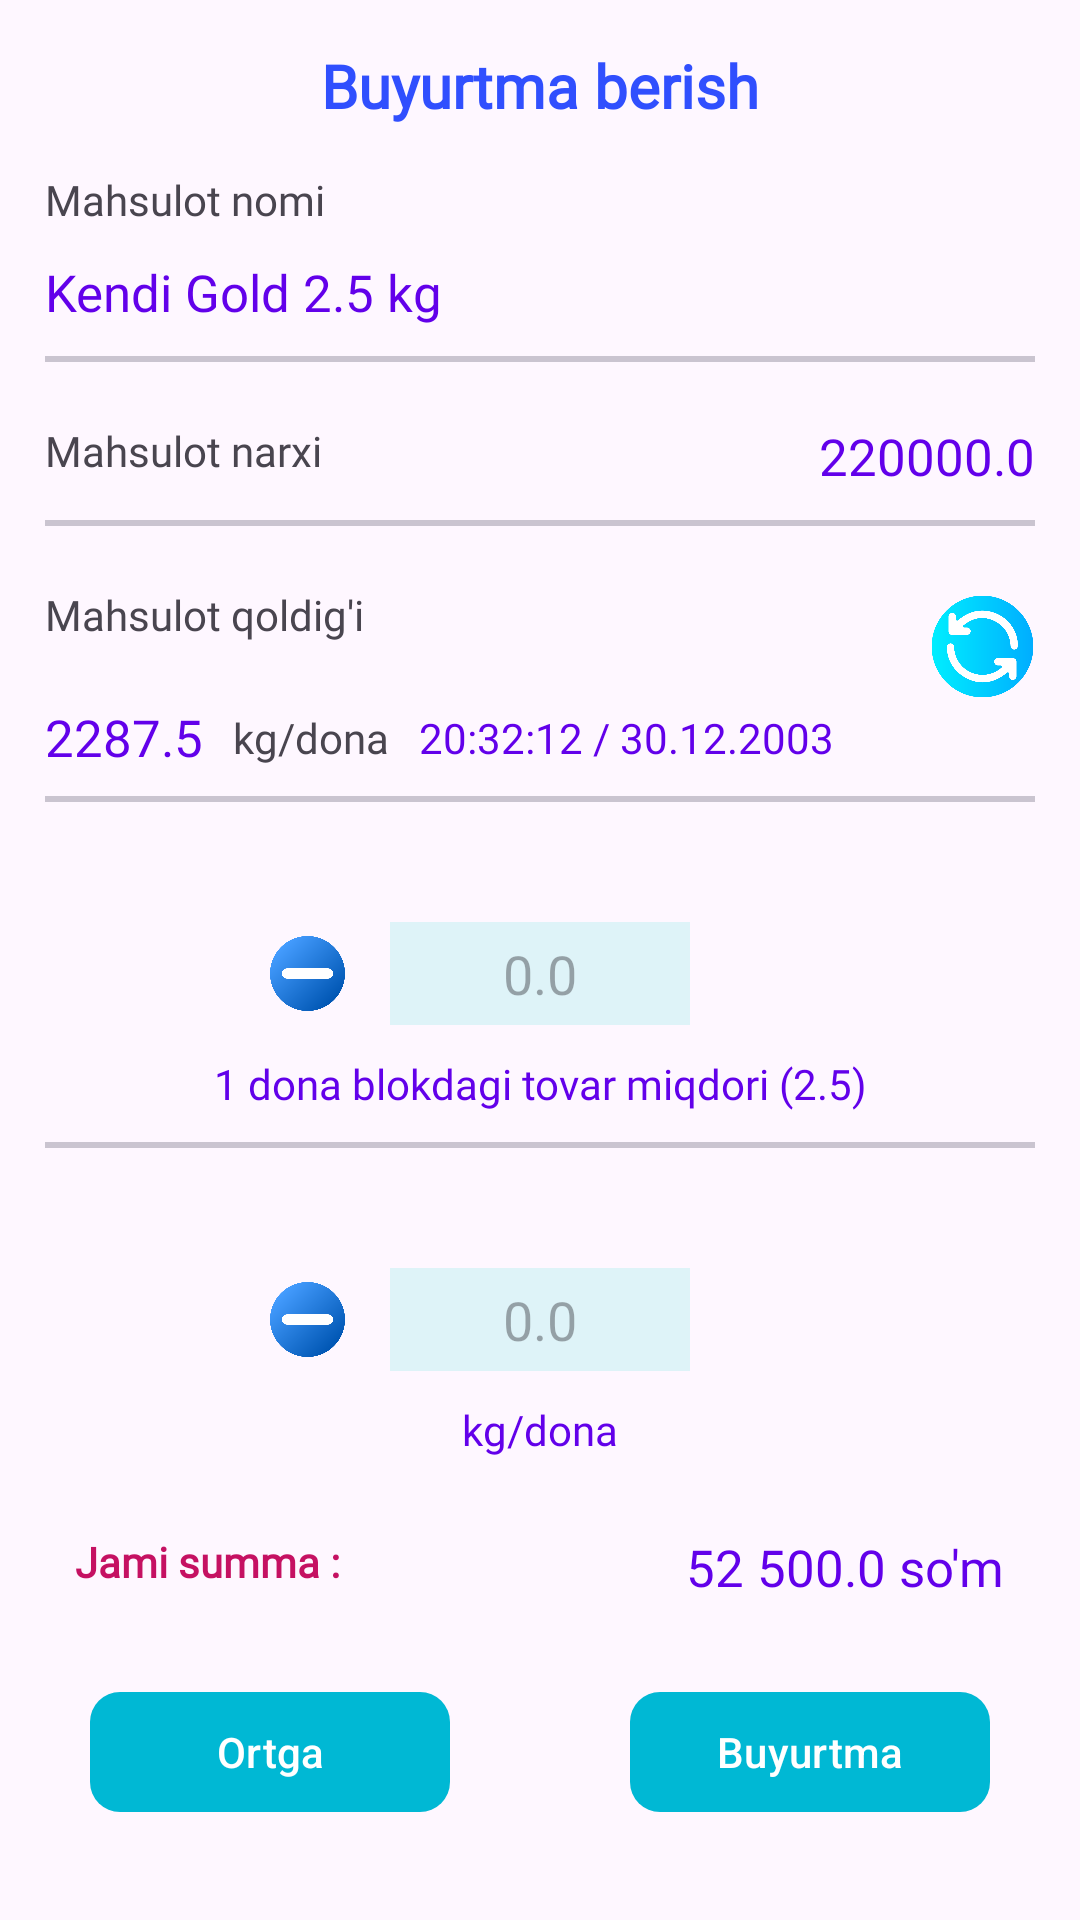

Locate icon controls on the screen. Image size 1080 x 1920, boxes as [x1=x1, y1=y1, x2=x2, y2=y2].
arrows: [x1=932, y1=596, x2=1033, y2=697]
minus: [x1=270, y1=936, x2=345, y2=1011], [x1=270, y1=1282, x2=345, y2=1357]
